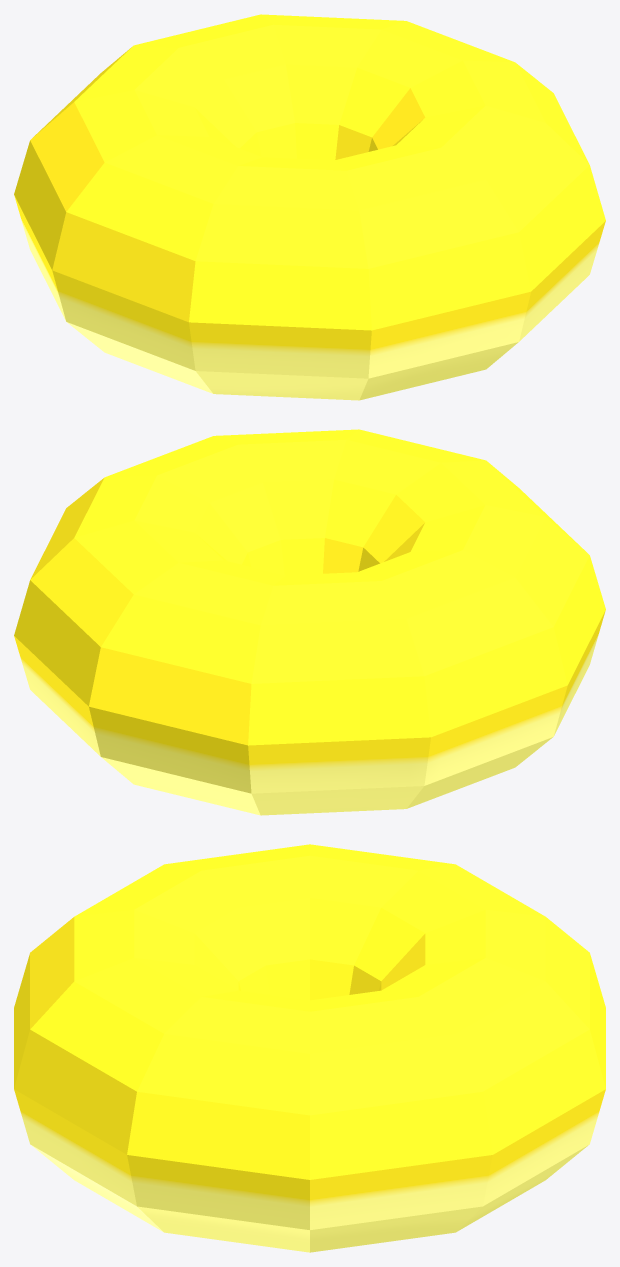
File: Holy_Donut_V0.glb
The picture shows the model from 3 angles, top to bottom: view 1: azimuth 30°, elevation 25°; view 2: azimuth 150°, elevation 25°; view 3: azimuth 270°, elevation 25°; orthographic projection. The views are drawn at different scales.
Visible parts, largest first — view 1: Holy-Donut-col; view 2: Holy-Donut-col; view 3: Holy-Donut-col.
Part boxes in pixels (x1=…): Holy-Donut-col: x1=14, y1=14, x2=605, y2=400; Holy-Donut-col: x1=14, y1=429, x2=605, y2=815; Holy-Donut-col: x1=14, y1=844, x2=605, y2=1252.
Bounding box in the file's own units: 0.59 × 0.24 × 0.5611.
1 material, 1 textured.
